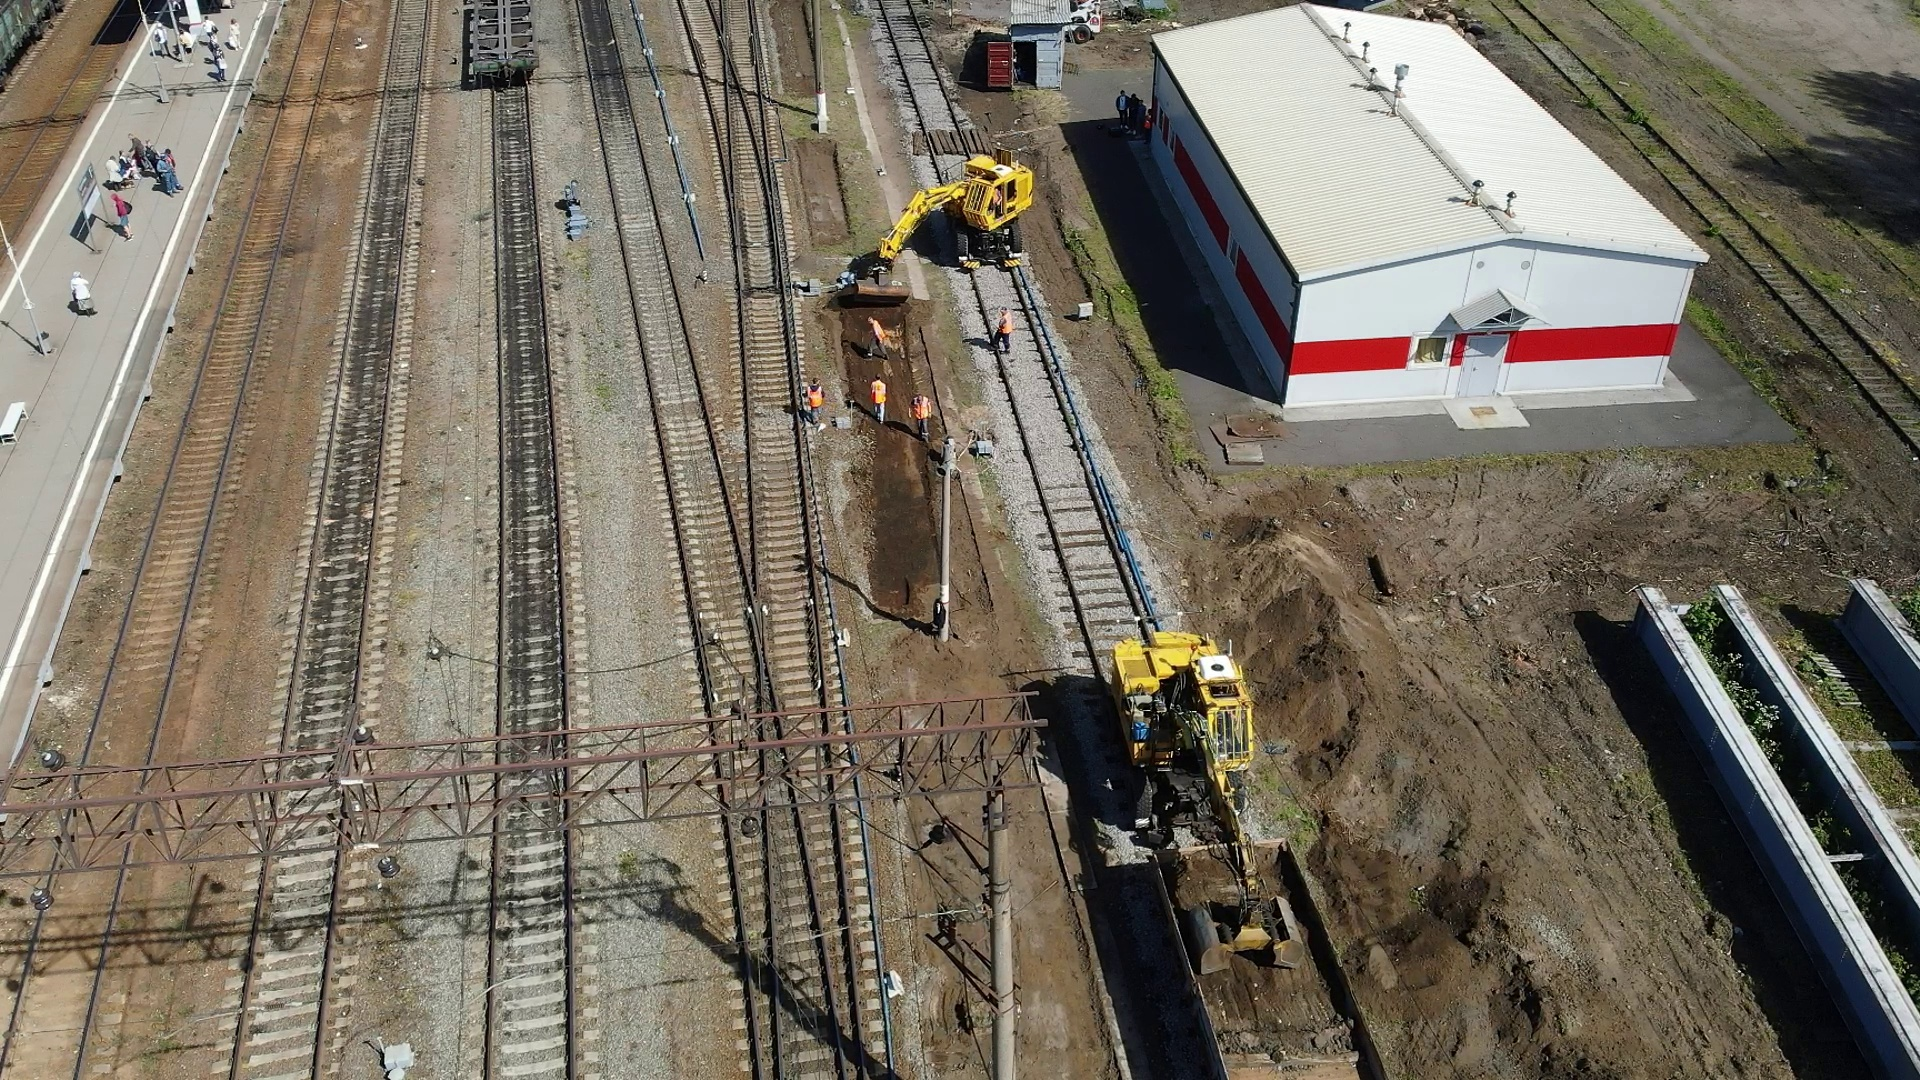kjtv: (1098, 615, 1255, 825), (948, 158, 1030, 248)
